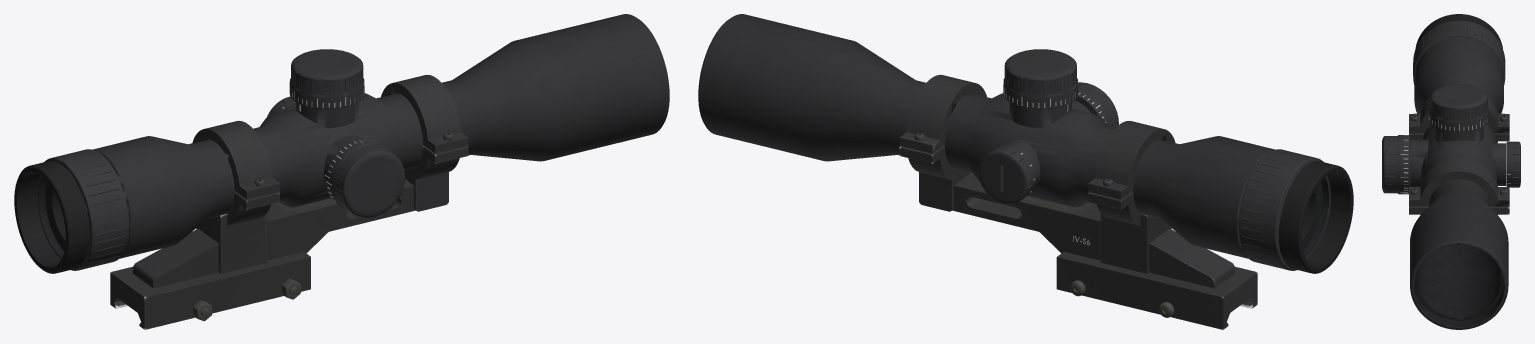
File: SM_IVS6_Scope_LOD1.fbx
3 renders of one model, left to right at view 1: azimuth 30°, elevation 25°; view 2: azimuth 150°, elevation 25°; view 3: azimuth 270°, elevation 25°, orthographic. The views are drawn at different scales.
Parts seen in each view (by area): view 1: SM_IVS6_Scope_LOD1; view 2: SM_IVS6_Scope_LOD1; view 3: SM_IVS6_Scope_LOD1, IVS6_Glass_LOD1.
Boxes of the visible parts, x1=… form: SM_IVS6_Scope_LOD1: x1=14, y1=14, x2=669, y2=329; SM_IVS6_Scope_LOD1: x1=698, y1=14, x2=1353, y2=329; SM_IVS6_Scope_LOD1: x1=1382, y1=14, x2=1520, y2=329; IVS6_Glass_LOD1: x1=1421, y1=245, x2=1497, y2=316.
Bounding box in the file's own units: 27 × 8.95 × 6.8.
3 materials, 1 textured.
